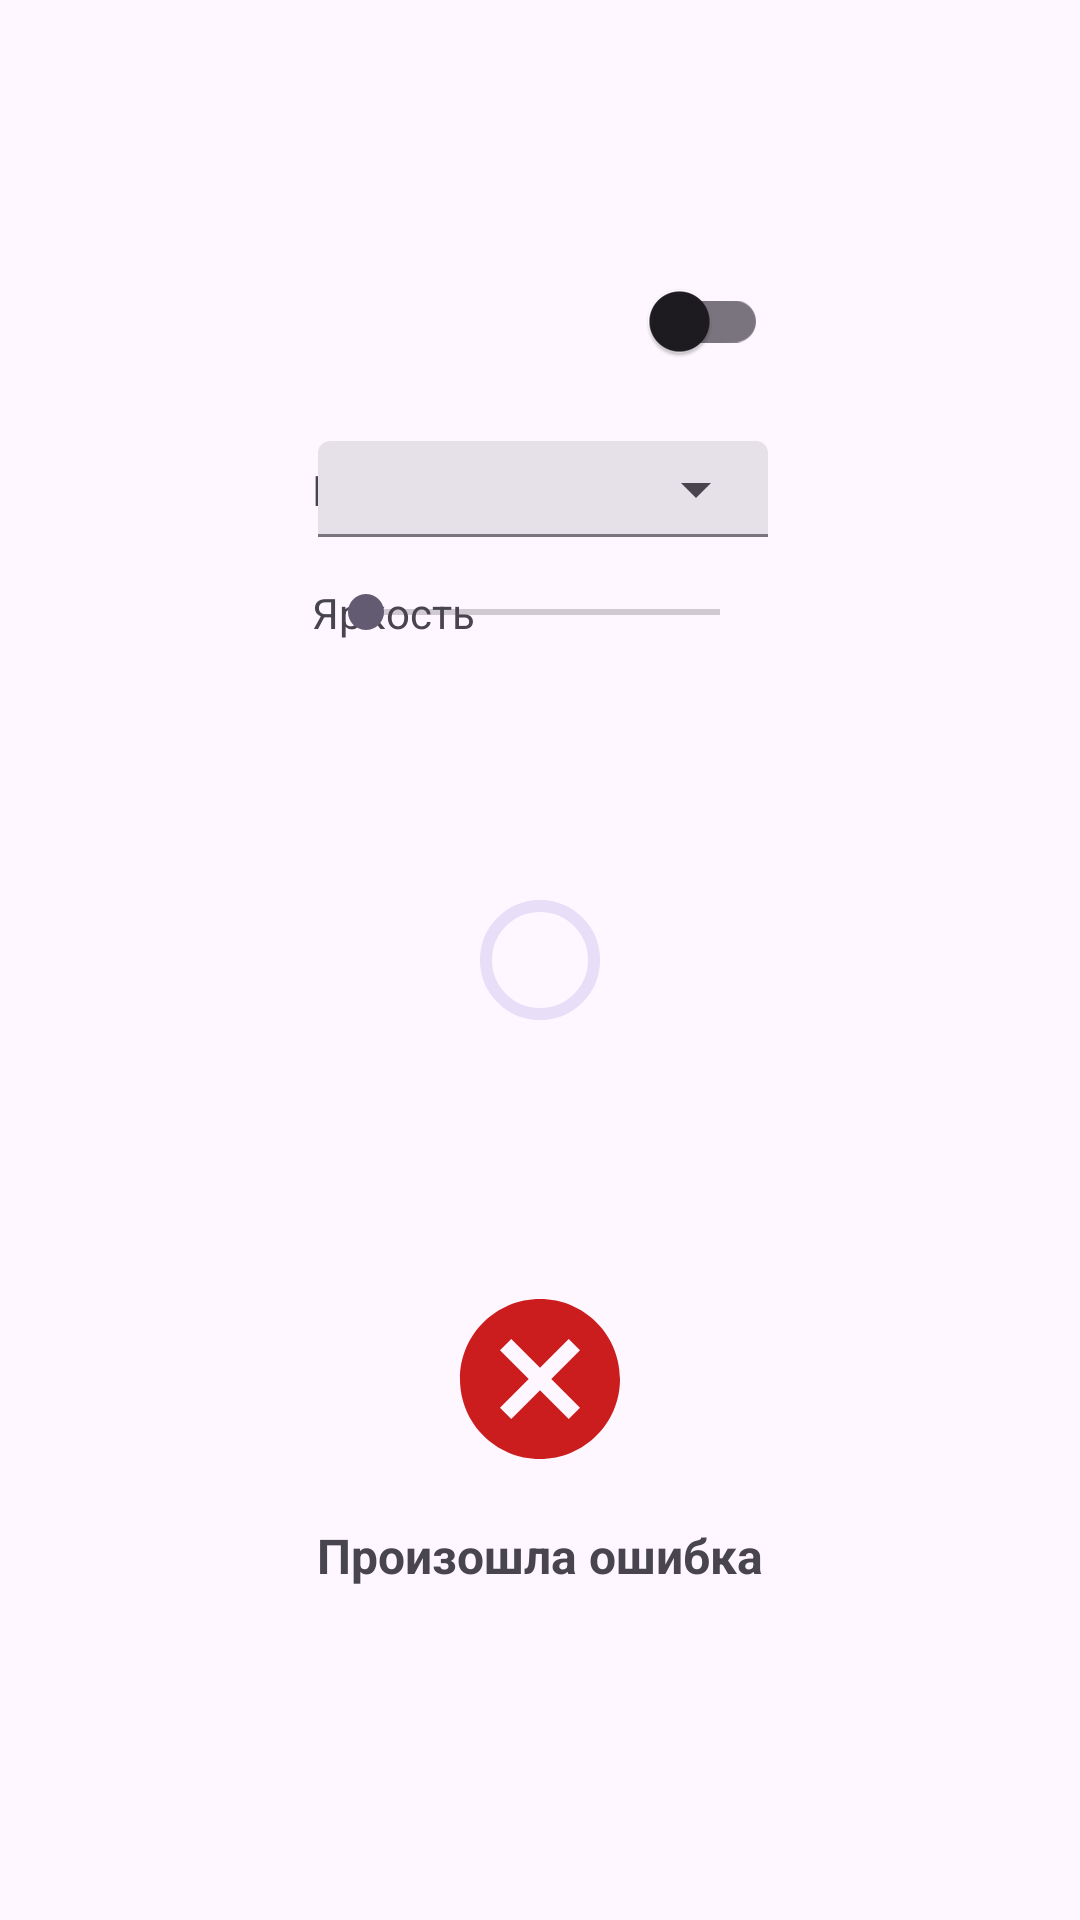

Named icons in this screenshot (1080 × 1920) and their centers, (x=x, y=y):
error: (x=540, y=1379)
